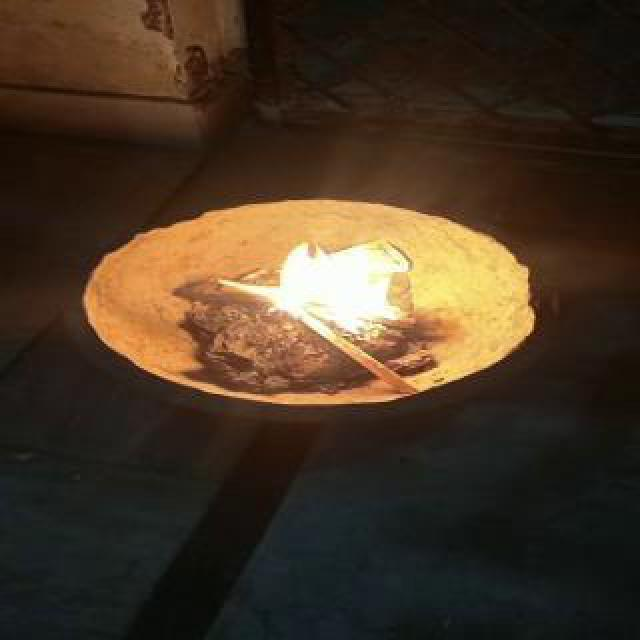Fire: (234, 232, 434, 346)
